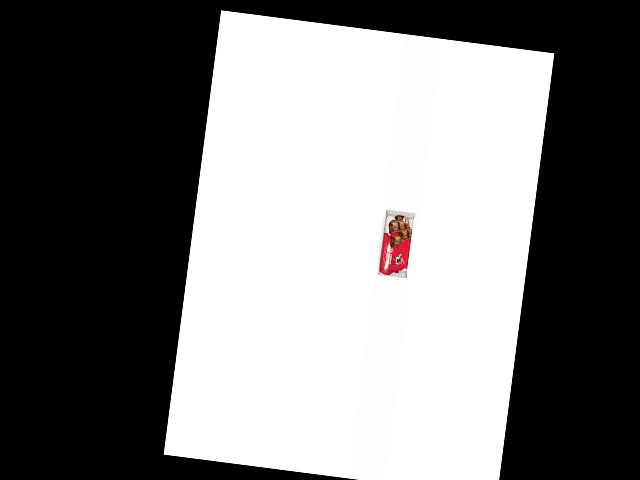chocolate: (361, 206, 411, 288)
